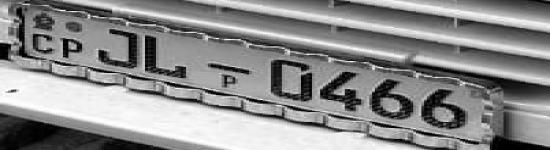-: (205, 60, 253, 76)
0: (266, 57, 316, 104)
4: (319, 69, 365, 113)
6: (418, 84, 470, 131), (368, 77, 418, 121)
C: (30, 32, 58, 55)
J: (96, 28, 140, 70)
L: (141, 34, 191, 79)
P: (58, 36, 85, 60)
